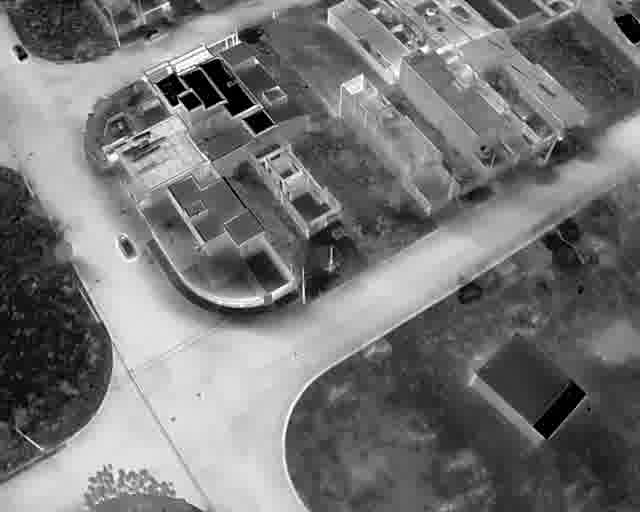car: (115, 232, 138, 261), (143, 28, 169, 42), (11, 43, 29, 63)
